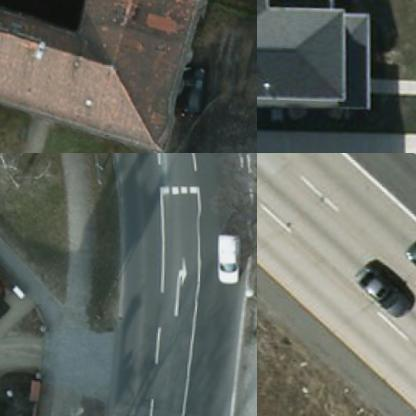car: (356, 261, 415, 321), (215, 228, 247, 285), (176, 66, 210, 118), (401, 231, 415, 295)
